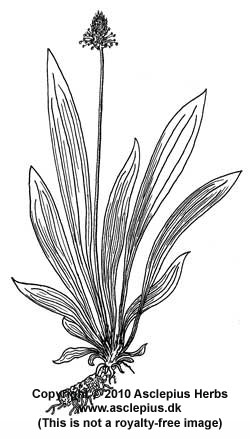buckhorn plantain: (23, 5, 242, 357)
